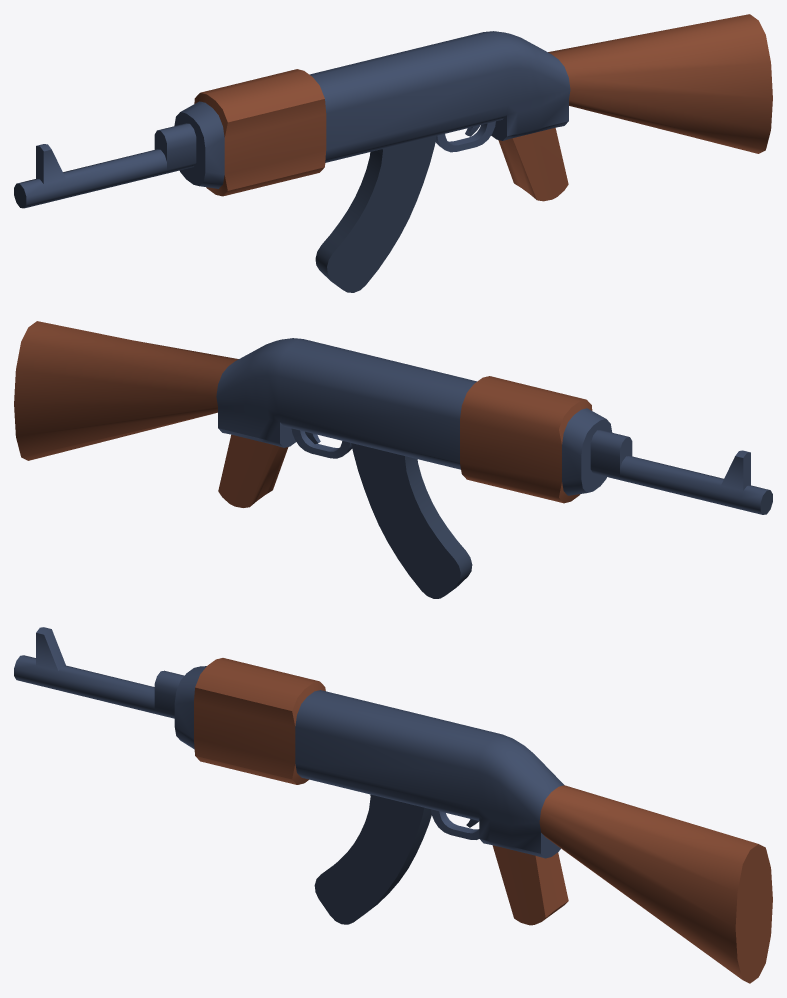
Rendered from Automat A.fbx.
The picture shows the model from 3 angles, top to bottom: view 1: azimuth 30°, elevation 25°; view 2: azimuth 150°, elevation 25°; view 3: azimuth 330°, elevation 25°; orthographic projection.
Visible parts, largest first — view 1: Automat A; view 2: Automat A; view 3: Automat A.
Boxes of the visible parts, box(x1,y1,x2,y2) form: Automat A: box(14, 14, 772, 292); Automat A: box(14, 321, 772, 598); Automat A: box(14, 627, 772, 983).
Bounding box in the file's own units: 1.81 × 0.5288 × 0.1601.
